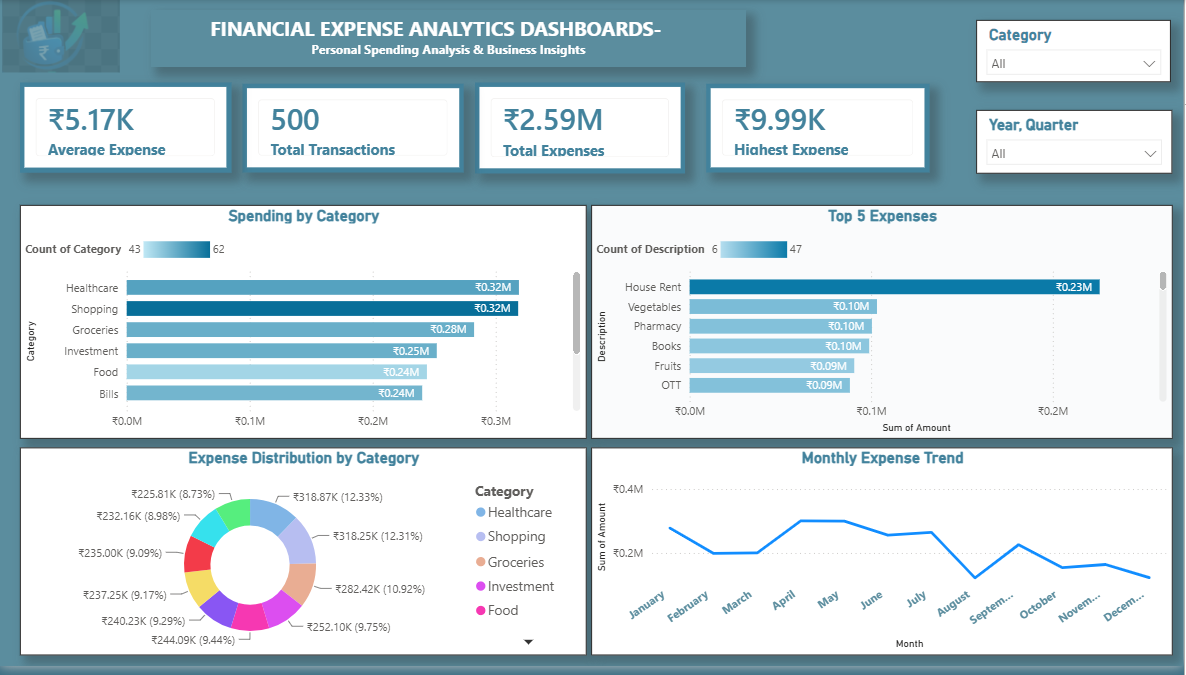

The page's visual inventory and layout, read from the dashboard file:
{"tool":"powerbi","page":{"name":"Page 1","canvas":[1280,720],"ordinal":0},"visuals":[{"type":"cardVisual","fields":{"Data":["Sum(expenses_500.Amount)"]},"box":[526.3,89.8,214.7,98.2],"z":0},{"type":"cardVisual","fields":{"Data":["CountNonNull(expenses_500.Amount)"]},"box":[261.1,89.8,223.2,98.2],"z":1000},{"type":"cardVisual","fields":{"Data":["Avg(expenses_500.Amount)"]},"box":[21.1,89.8,209.1,96.8],"z":2000},{"type":"cardVisual","fields":{"Data":["Max(expenses_500.Amount)"]},"box":[763.8,90.6,206.8,97.3],"z":3000},{"type":"clusteredBarChart","title":"Spending by Category","fields":{"Category":["expenses_500.Category"],"Y":["Sum(expenses_500.Amount)"]},"box":[21.1,221.8,586.7,252.6],"z":4000},{"type":"donutChart","title":"Expense Distribution by Category","fields":{"Category":["expenses_500.Category"],"Y":["Sum(expenses_500.Amount)"]},"box":[21.1,484.2,586.7,224.6],"z":5000},{"type":"clusteredBarChart","title":"Top 5 Expenses","fields":{"Category":["expenses_500.Description"],"Y":["Sum(expenses_500.Amount)"]},"box":[640,221.8,628.8,252.6],"z":6000},{"type":"textbox","box":[163.6,10.8,642.8,61.8],"z":7000},{"type":"lineChart","title":"Monthly Expense Trend","fields":{"Y":["Sum(expenses_500.Amount)"],"Category":["expenses_500.Date.Variation.Date Hierarchy.Month"]},"box":[640,484.2,628.8,224.6],"z":8000},{"type":"slicer","fields":{"Values":["expenses_500.Category"]},"box":[1044.2,11.2,210.5,67.4],"z":9000},{"type":"slicer","fields":{"Values":["expenses_500.Date.Variation.Date Hierarchy.Year","expenses_500.Date.Variation.Date Hierarchy.Quarter"]},"box":[1042.8,103.9,211.9,68.8],"z":10000},{"type":"image","box":[0,0,132.5,78.4],"z":11000}]}

Visuals, with their boxes in screenshot pixels (x1, y1, x2, y2), scaled from the page's 1280x720 canvas onto the 1186x675 screenshot:
cardVisual - Sum(expenses_500.Amount): (left=488, top=84, right=687, bottom=176)
cardVisual - CountNonNull(expenses_500.Amount): (left=242, top=84, right=449, bottom=176)
cardVisual - Avg(expenses_500.Amount): (left=20, top=84, right=213, bottom=175)
cardVisual - Max(expenses_500.Amount): (left=708, top=85, right=899, bottom=176)
"Spending by Category" clusteredBarChart: (left=20, top=208, right=563, bottom=445)
"Expense Distribution by Category" donutChart: (left=20, top=454, right=563, bottom=664)
"Top 5 Expenses" clusteredBarChart: (left=593, top=208, right=1176, bottom=445)
textbox: (left=152, top=10, right=747, bottom=68)
"Monthly Expense Trend" lineChart: (left=593, top=454, right=1176, bottom=664)
slicer - expenses_500.Category: (left=968, top=10, right=1163, bottom=74)
slicer - expenses_500.Date.Variation.Date Hierarchy.Year x expenses_500.Date.Variation.Date Hierarchy.Quarter: (left=966, top=97, right=1163, bottom=162)
image: (left=0, top=0, right=123, bottom=74)
